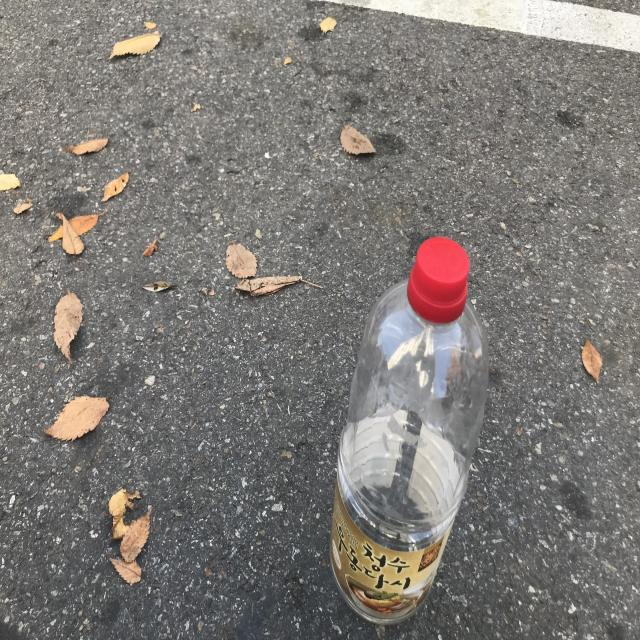plastic: (331, 237, 489, 624)
